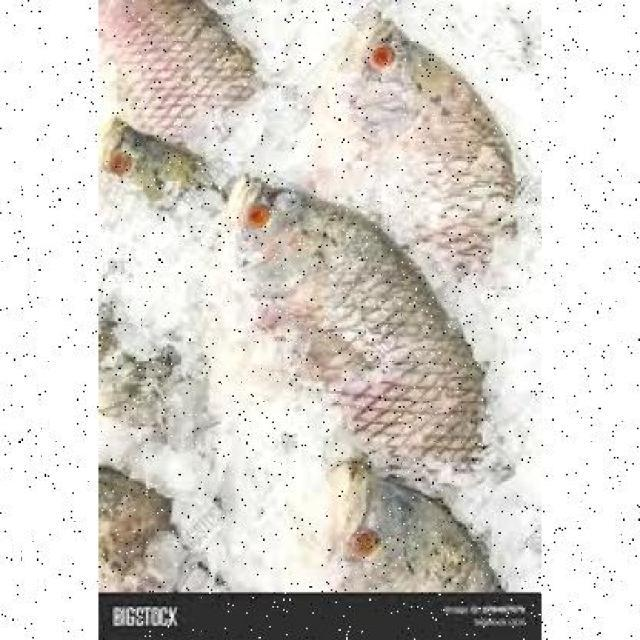gurame: (214, 164, 493, 463), (326, 6, 539, 292)
